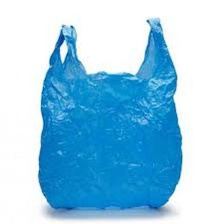plastic_bag: (29, 11, 189, 218)
